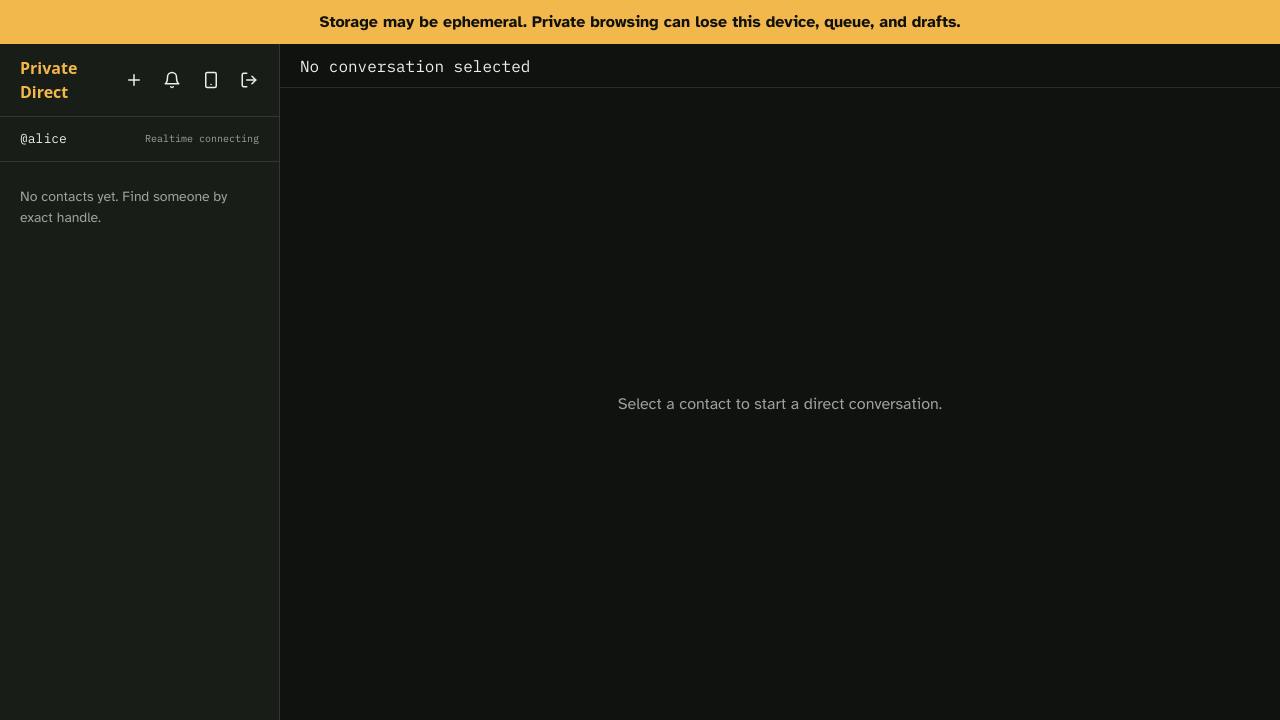
Scenario: contact consent flow › renders directed empty states
The image size is (1280, 720).
Expected: the text "No contacts yet. Find someone by exact handle." is shown, left=20, top=188, right=227, bottom=226
Click the button named "Incoming requests". click: (172,80)
box: left=154, top=62, right=190, bottom=98
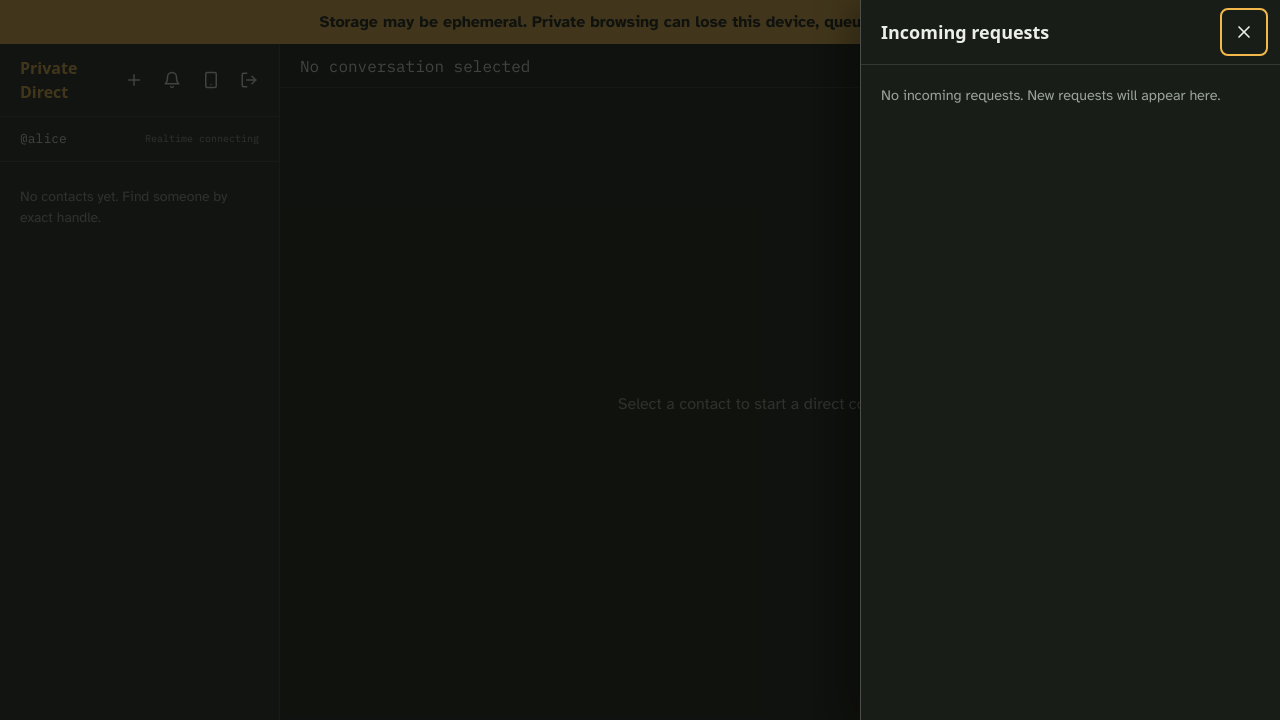
Expected: the text "No incoming requests. New requests will appear here." is shown, left=881, top=85, right=1260, bottom=107
